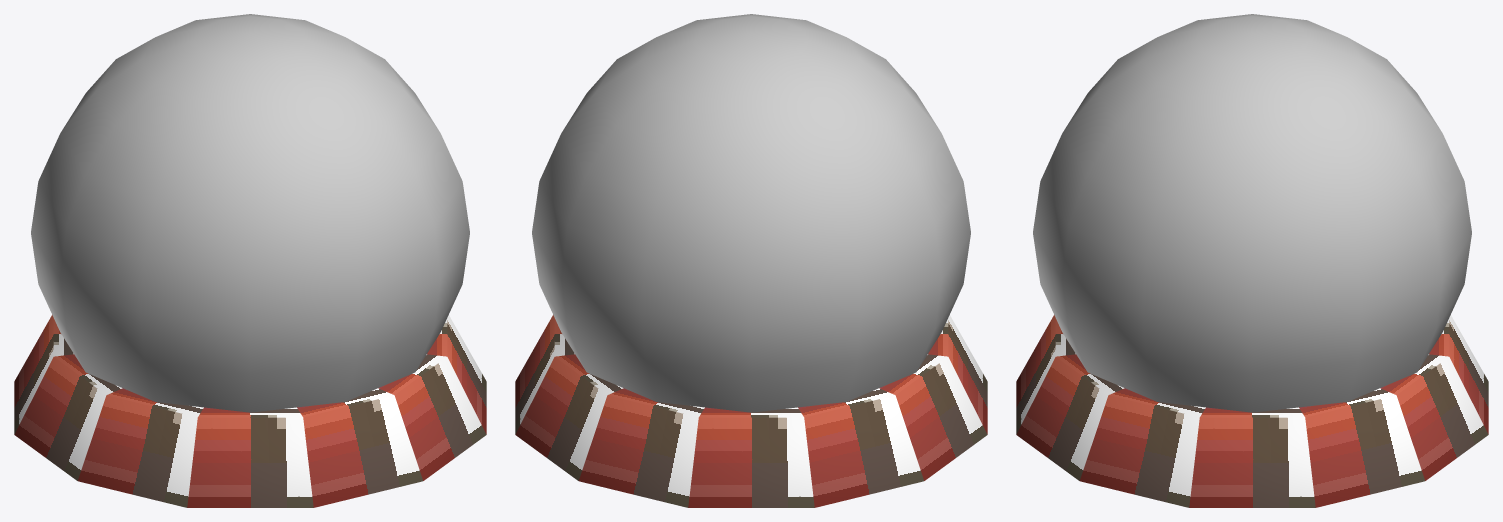
File: int_oth_snowglobe.dae
3 renders of one model, left to right at view 1: azimuth 30°, elevation 25°; view 2: azimuth 150°, elevation 25°; view 3: azimuth 270°, elevation 25°, orthographic.
Visible parts, largest first — view 1: int_oth_snowglobe; view 2: int_oth_snowglobe; view 3: int_oth_snowglobe.
Part boxes in pixels (box(x1,y1,x2,y2)): int_oth_snowglobe: box(14, 14, 486, 507); int_oth_snowglobe: box(515, 14, 987, 507); int_oth_snowglobe: box(1016, 14, 1488, 507).
Bounding box in the file's own units: 23.18 × 20.28 × 23.18.
3 materials, 2 textured.
